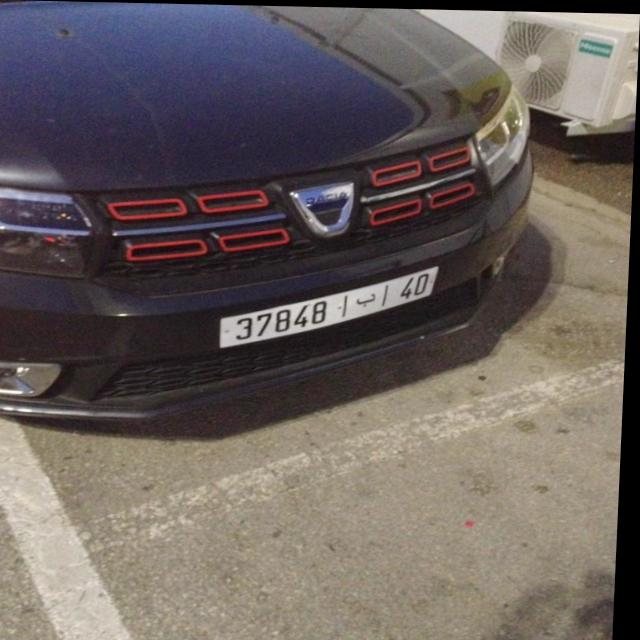License-Plate: (223, 265, 441, 346)
